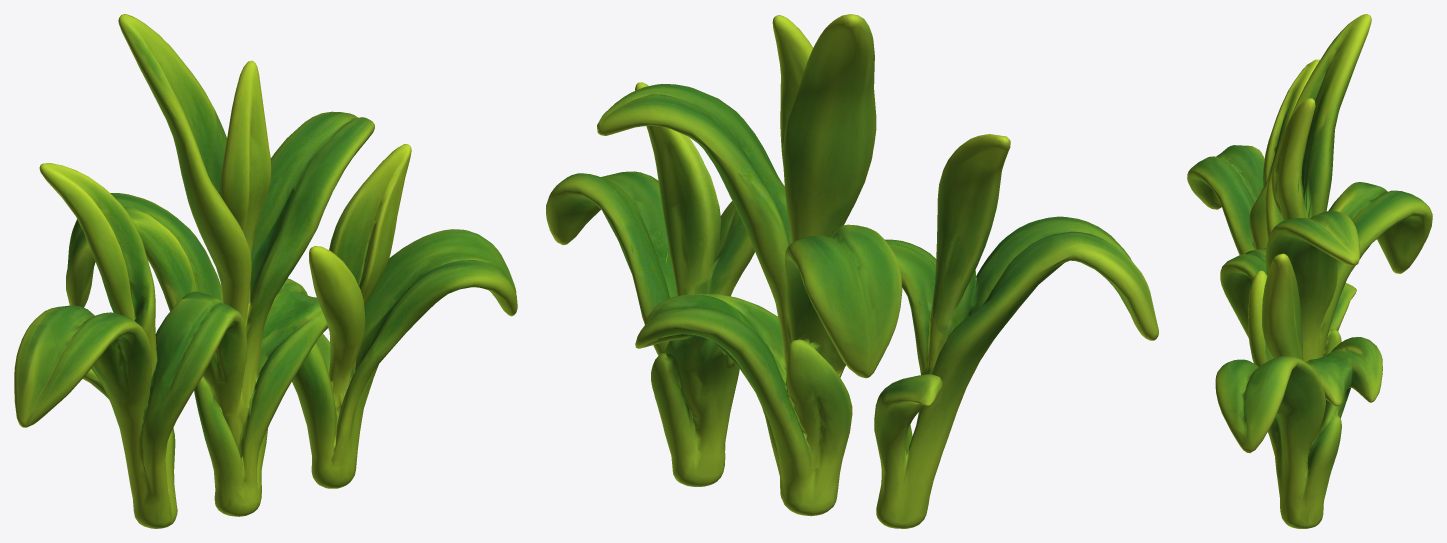
Rendered from wheat-sprout.glb.
3 renders of one model, left to right at view 1: azimuth 30°, elevation 25°; view 2: azimuth 150°, elevation 25°; view 3: azimuth 270°, elevation 25°, orthographic. The views are drawn at different scales.
Bounding box in the file's own units: 1.9 × 1.71 × 0.8711.
1 material, 1 textured.
